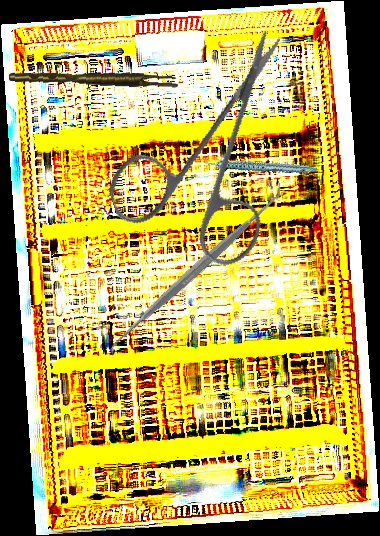Handpiece: (197, 133, 318, 197)
Iris Scissors: (76, 27, 342, 294)
Spatula Surgical: (98, 179, 295, 359)
Tissue Forceps: (8, 64, 179, 93)
